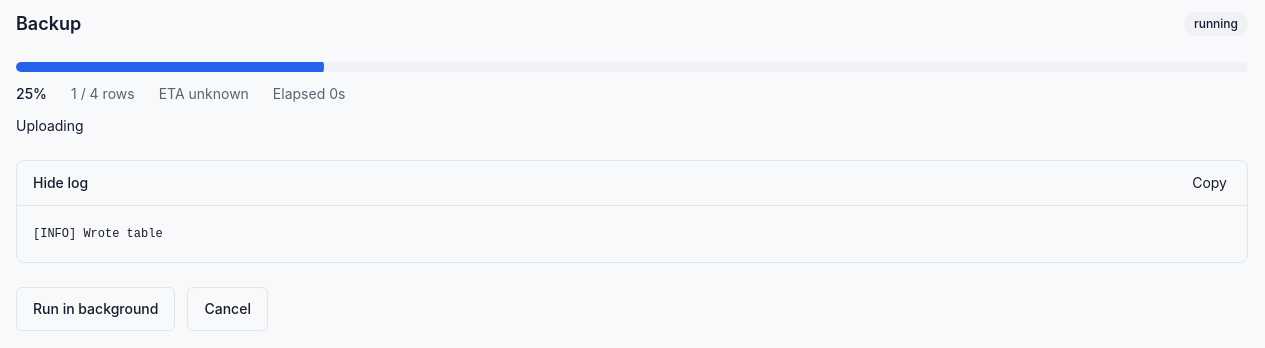
Scenario: connected live view › tracks an inline process before leaving and sends all identifiers
The image size is (1265, 348).
Click the button "Run in background" at (96, 309), box [16, 287, 176, 331]
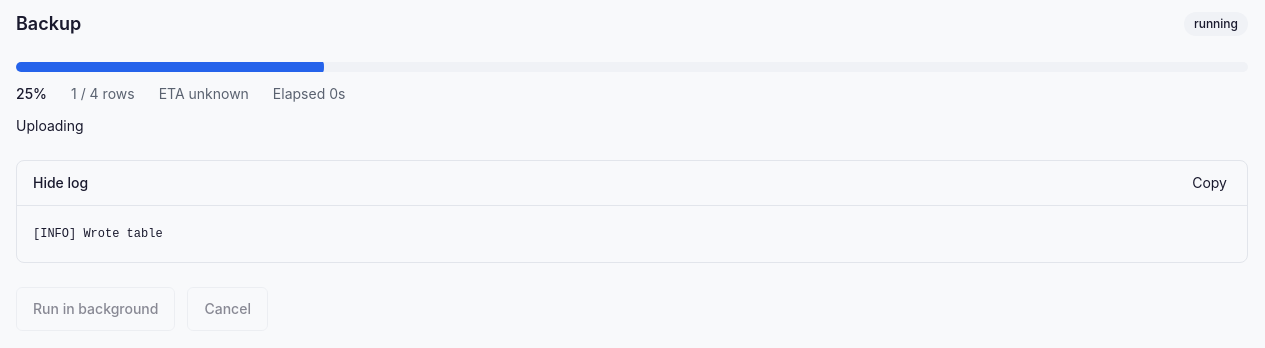
Expected: the button "Run in background" is disabled, [16, 287, 176, 331]
